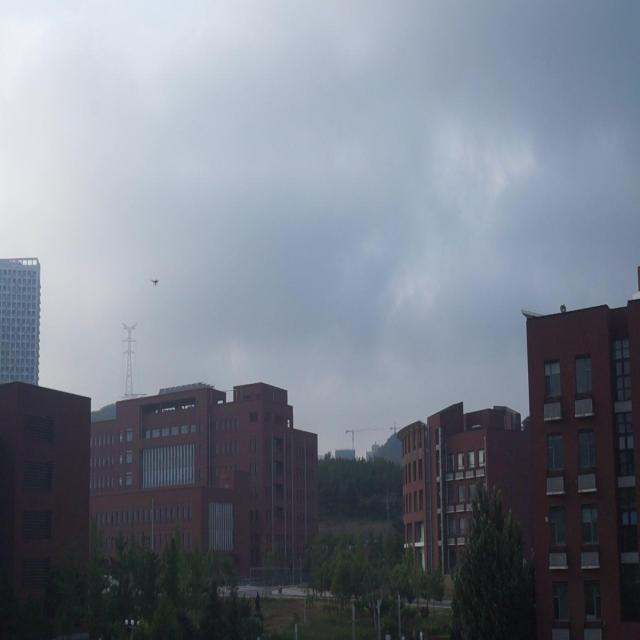drone: (149, 274, 161, 291)
